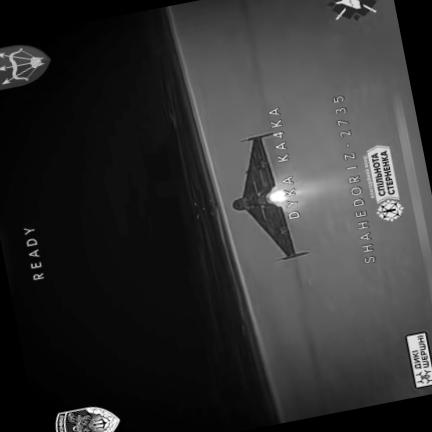Shahed: (232, 132, 308, 258)
